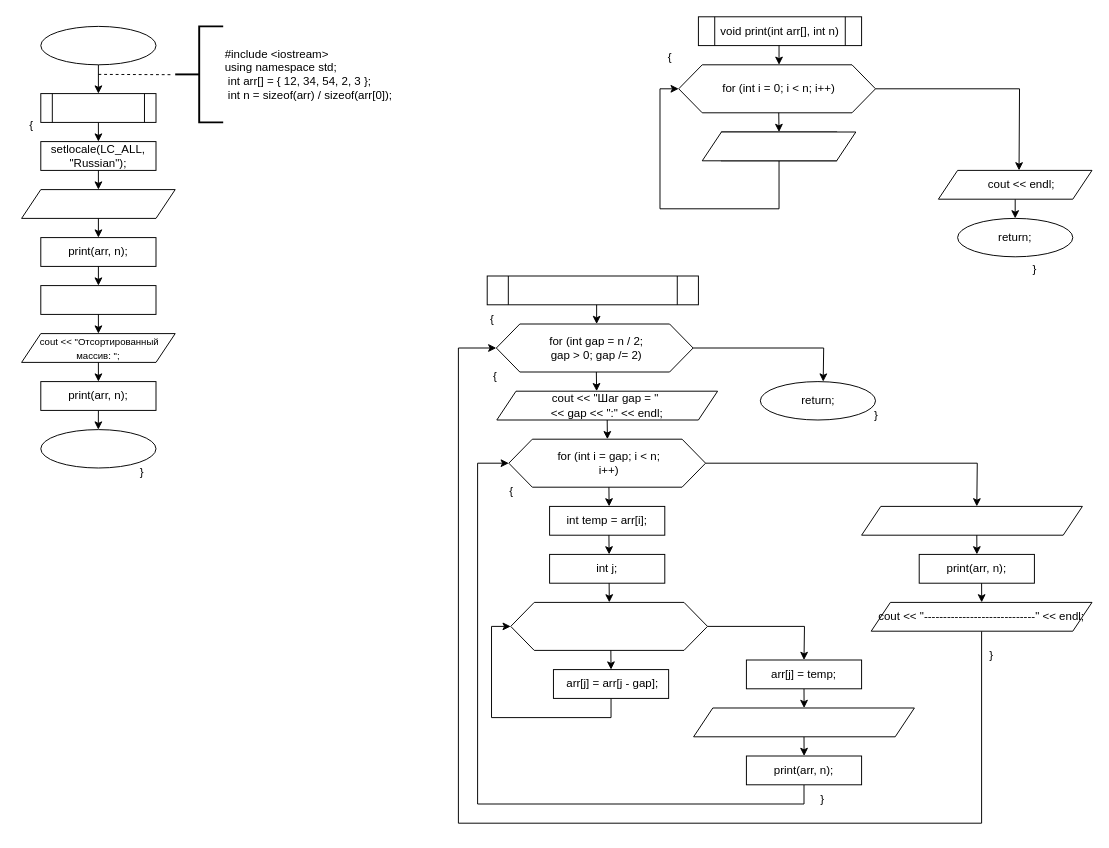
Image size: 1109x848. Some labels were removed from this diagram. Here are the shapes that lost their labels. From the top down, the centre of each, then its label:
pixel 98 45: Начало
pixel 98 107: int main()
pixel 778 146: cout << arr[i] << " ";
pixel 98 203: cout << "Исходный массив: ";
pixel 98 299: shellSort(arr, n);
pixel 592 290: void shellSort(int arr[], int n)
pixel 98 448: return 0;
pixel 971 520: cout << "После завершения шага gap = " << gap << ": ";
pixel 609 625: for (j = i; j >= gap && arr[j - gap] > temp; j -= gap)
pixel 803 722: cout << "После вставки элемента " << temp << ": ";
